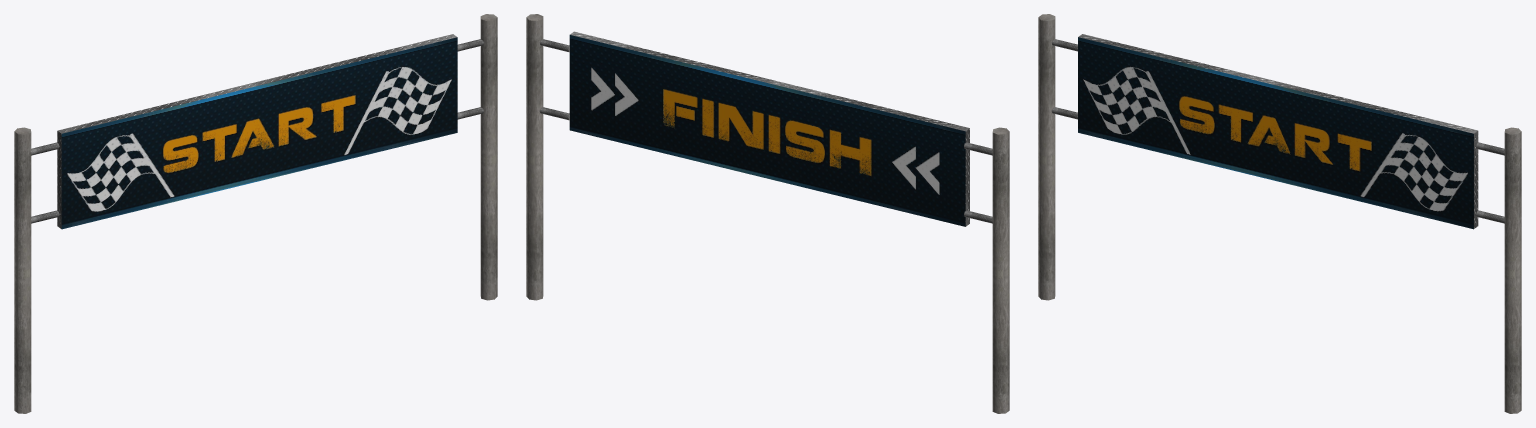
Rendered from StartFinish.FBX.
3 renders of one model, left to right at view 1: azimuth 30°, elevation 25°; view 2: azimuth 150°, elevation 25°; view 3: azimuth 330°, elevation 25°, orthographic.
Parts seen in each view (by area): view 1: Box001; view 2: Box001; view 3: Box001.
Boxes of the visible parts, x1=… form: Box001: x1=14, y1=14, x2=497, y2=413; Box001: x1=526, y1=14, x2=1009, y2=413; Box001: x1=1038, y1=14, x2=1521, y2=413.
Bounding box in the file's own units: 3148 × 1753 × 97.49.
1 material, 1 textured.
